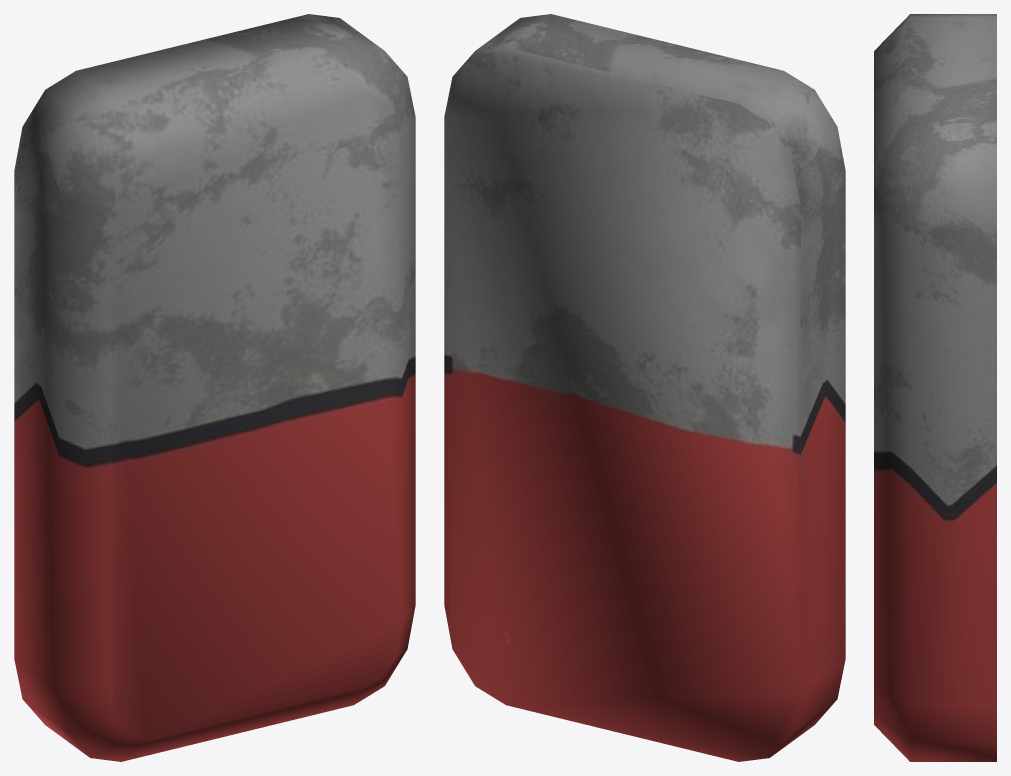
Rendered from alarm_box.glb.
The picture shows the model from 3 angles, left to right: view 1: azimuth 30°, elevation 25°; view 2: azimuth 150°, elevation 25°; view 3: azimuth 270°, elevation 25°; orthographic projection. The views are drawn at different scales.
Visible parts, largest first — view 1: alarm_box; view 2: alarm_box; view 3: alarm_box.
Part boxes in pixels (x1,y1,x2,y2): alarm_box: (14, 14, 415, 761); alarm_box: (444, 14, 845, 761); alarm_box: (874, 14, 996, 761).
Bounding box in the file's own units: 0.1134 × 0.2 × 0.0352.
1 material, 1 textured.
